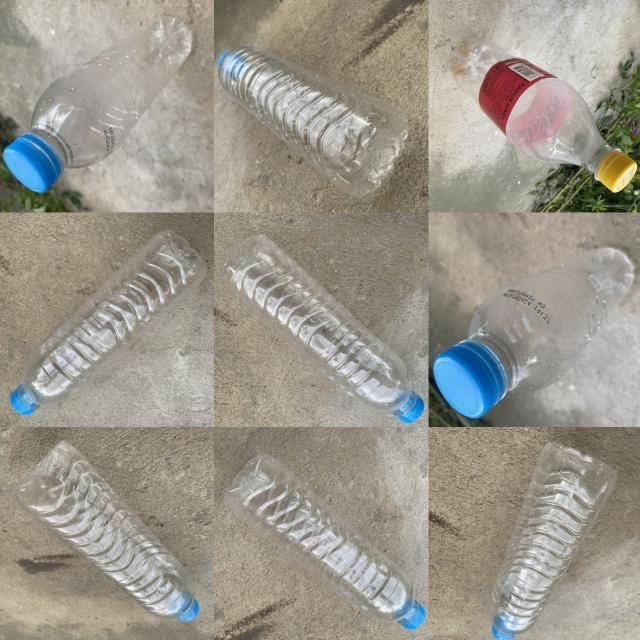plastik: (219, 235, 424, 423), (11, 231, 206, 415), (223, 453, 424, 628), (433, 247, 634, 418), (11, 441, 199, 621), (3, 17, 192, 193), (219, 47, 408, 197), (453, 42, 635, 192), (488, 443, 615, 640)
